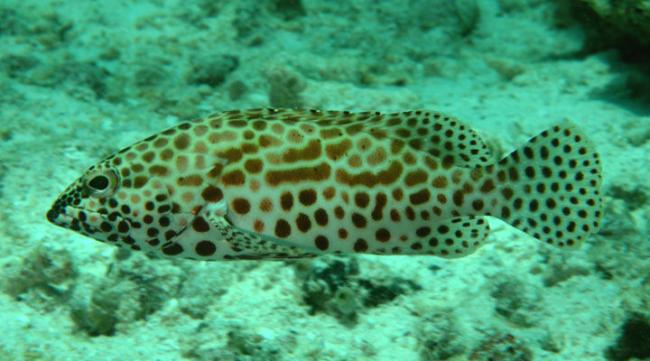fish: (45, 106, 604, 262)
